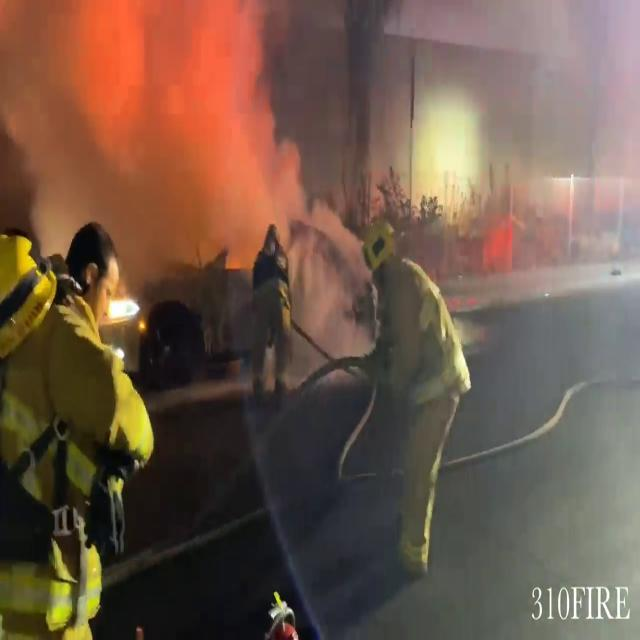Smoke: (1, 0, 302, 274)
